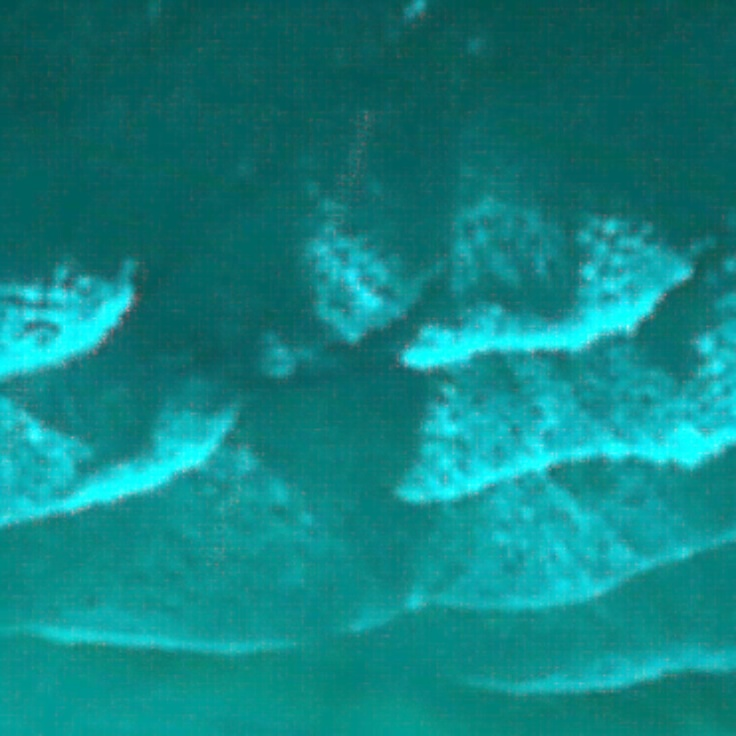rip_current: (186, 166, 487, 612)
